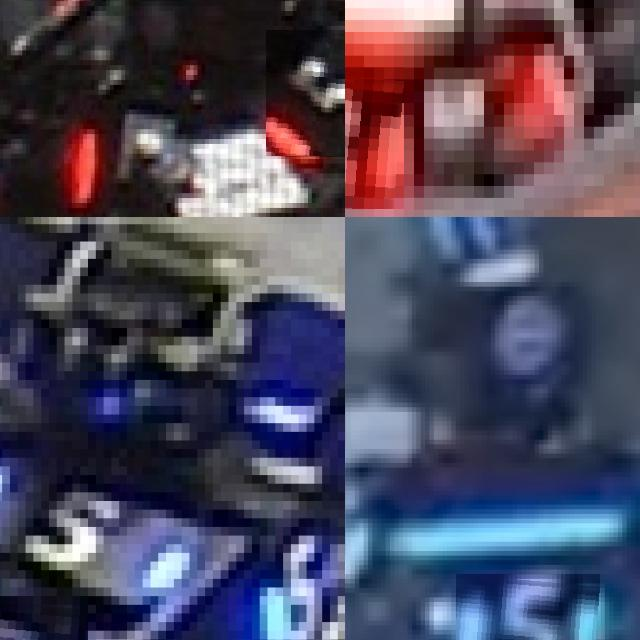B5: (455, 574, 600, 640)
R3: (524, 0, 614, 138), (345, 67, 404, 209)
R5: (266, 30, 345, 158)
